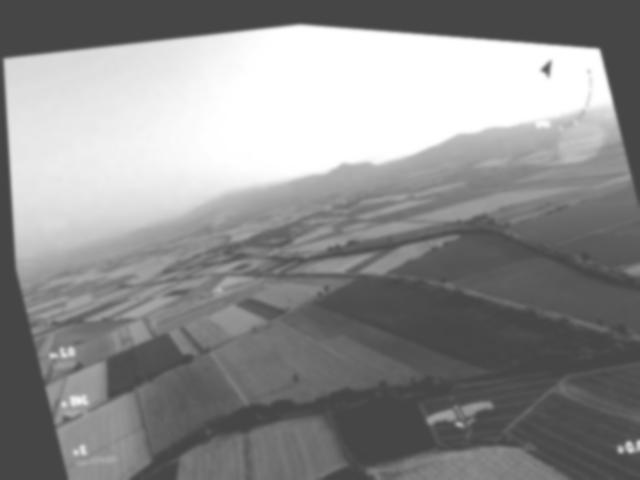hedef: (409, 371, 501, 447)
